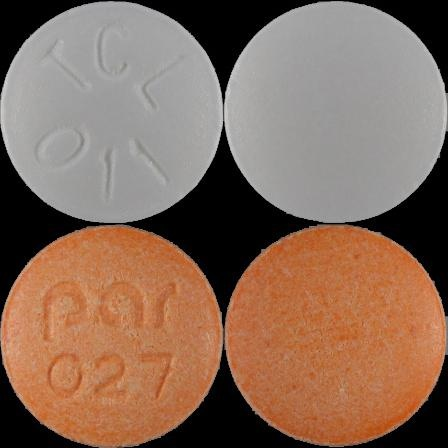0615-0522: (0, 0, 224, 224)
